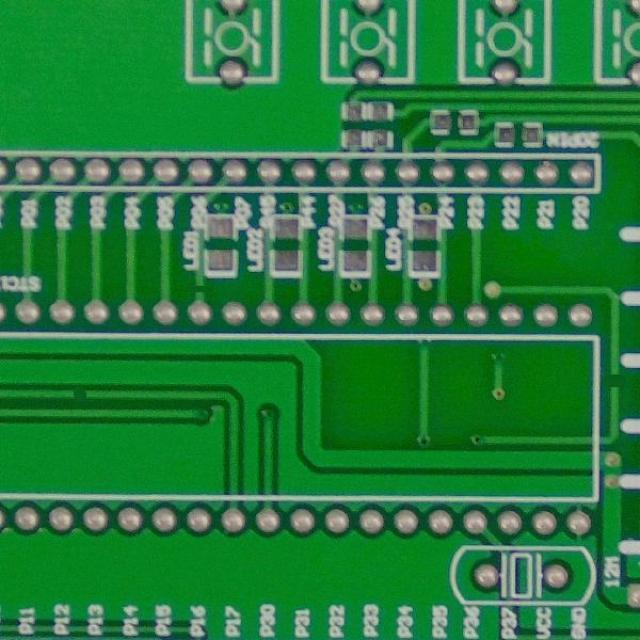Open_Circuit: (602, 365, 628, 399), (64, 385, 96, 403), (190, 278, 210, 300)
